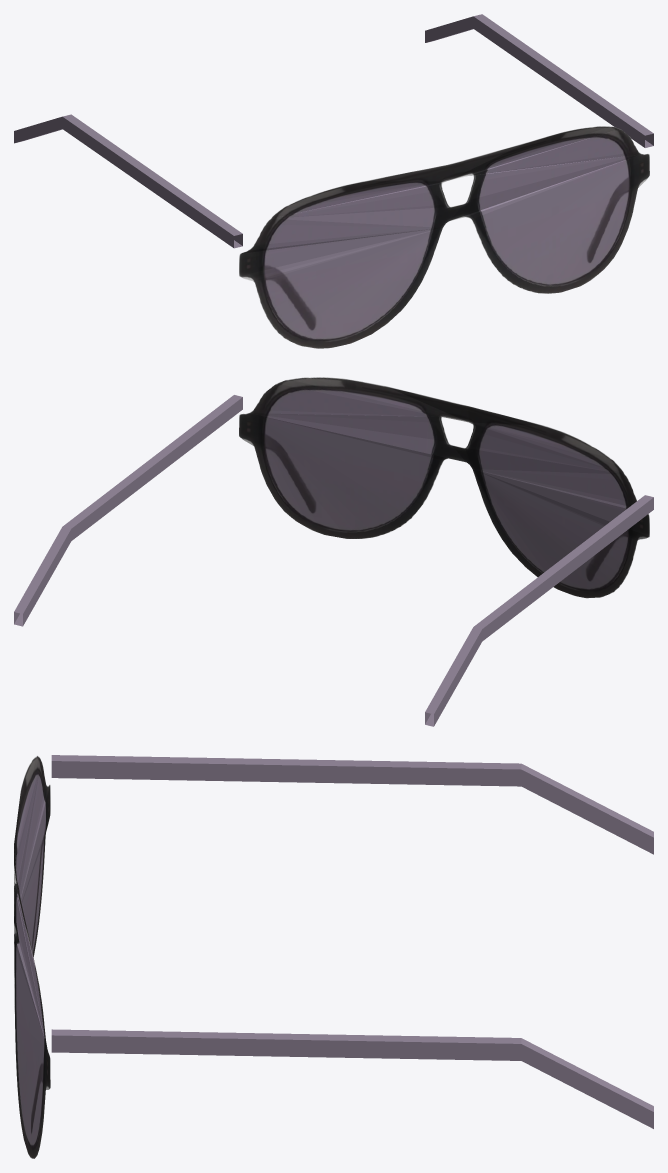
Rendered from dkny-dk556s_crystal-black.glb.
3 renders of one model, top to bottom at view 1: azimuth 30°, elevation 25°; view 2: azimuth 150°, elevation 25°; view 3: azimuth 270°, elevation 25°, orthographic. The views are drawn at different scales.
Visible parts, largest first — view 1: frame_front, temple_viewer_left, temple_viewer_right; view 2: frame_front, temple_viewer_left, temple_viewer_right; view 3: temple_viewer_left, temple_viewer_right, frame_front.
Boxes of the visible parts, x1,y1,x2,y2 form: frame_front: (239, 126, 649, 348); temple_viewer_left: (14, 114, 242, 248); temple_viewer_right: (425, 14, 653, 147); frame_front: (239, 377, 649, 598); temple_viewer_left: (425, 495, 653, 726); temple_viewer_right: (14, 395, 242, 626); temple_viewer_left: (51, 755, 653, 854); temple_viewer_right: (51, 1029, 653, 1128); frame_front: (14, 756, 50, 1158).
Bounding box in the file's own units: 0.141 × 0.0516 × 0.136.
Materials: 2 (2 with a texture image).
